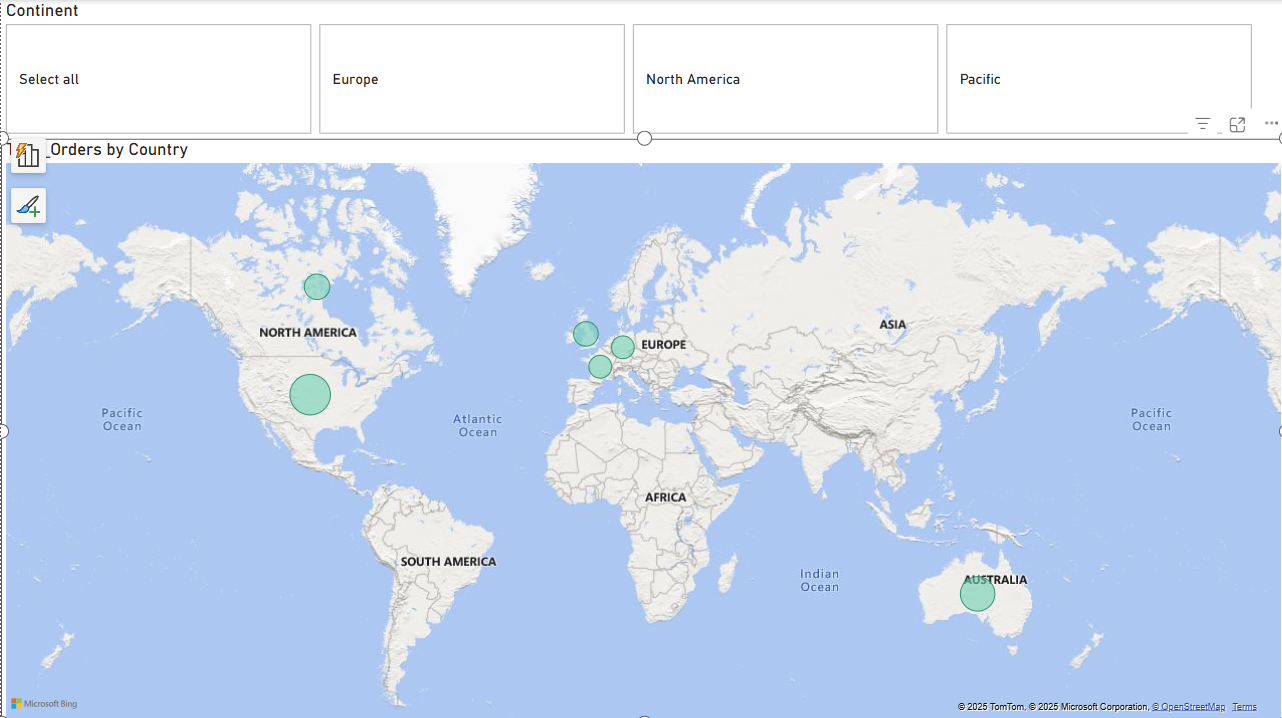

The page's visual inventory and layout, read from the dashboard file:
{"tool":"powerbi","page":{"name":"Page 5","canvas":[1280,720],"ordinal":6},"visuals":[{"type":"map","fields":{"Category":["Territory Lookup.Country"],"Size":["Measure_Table.Total_Orders"]},"box":[0,138.6,1280,581.4],"z":0},{"type":"advancedSlicerVisual","fields":{"Values":["Territory Lookup.Continent"]},"box":[0,0,1252.9,138.6],"z":1001}]}

Visuals, with their boxes on the page's 1280x720 design canvas (x1, y1, x2, y2). These are canvas units, not pixel positions in the 1282x718 screenshot, which may show the page scaled, cropped or inside an application window:
map - Territory Lookup.Country x Measure_Table.Total_Orders: [0, 139, 1280, 720]
advancedSlicerVisual - Territory Lookup.Continent: [0, 0, 1253, 139]
